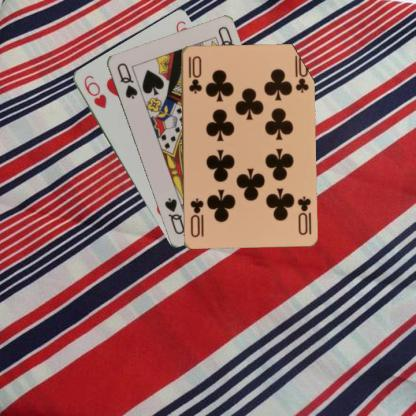10c: (186, 53, 204, 95), (295, 194, 312, 236)
6h: (81, 72, 107, 110)
Qs: (113, 60, 138, 100)
